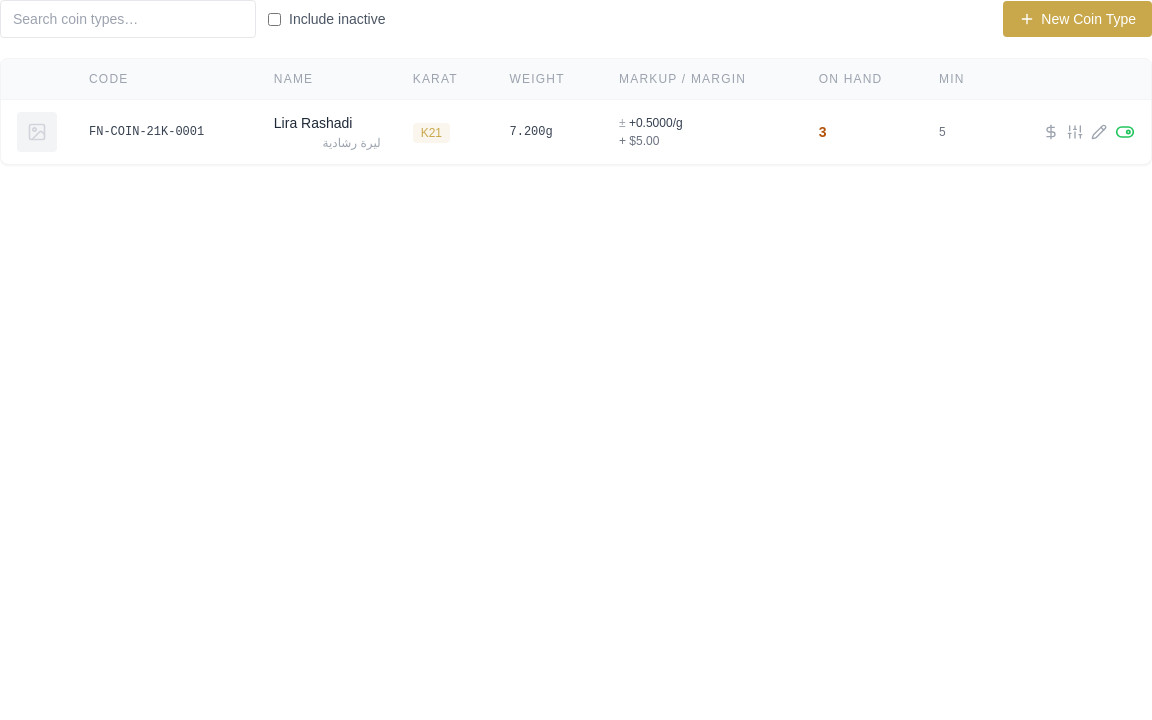
Scenario: UnitCatalog labels (NEX-64) › every field in the stock-adjust dialog is reachable by its label
Click the button named "Adjust stock: FN-COIN-21K-0001": point(1075, 132) [1067, 124, 1083, 140]
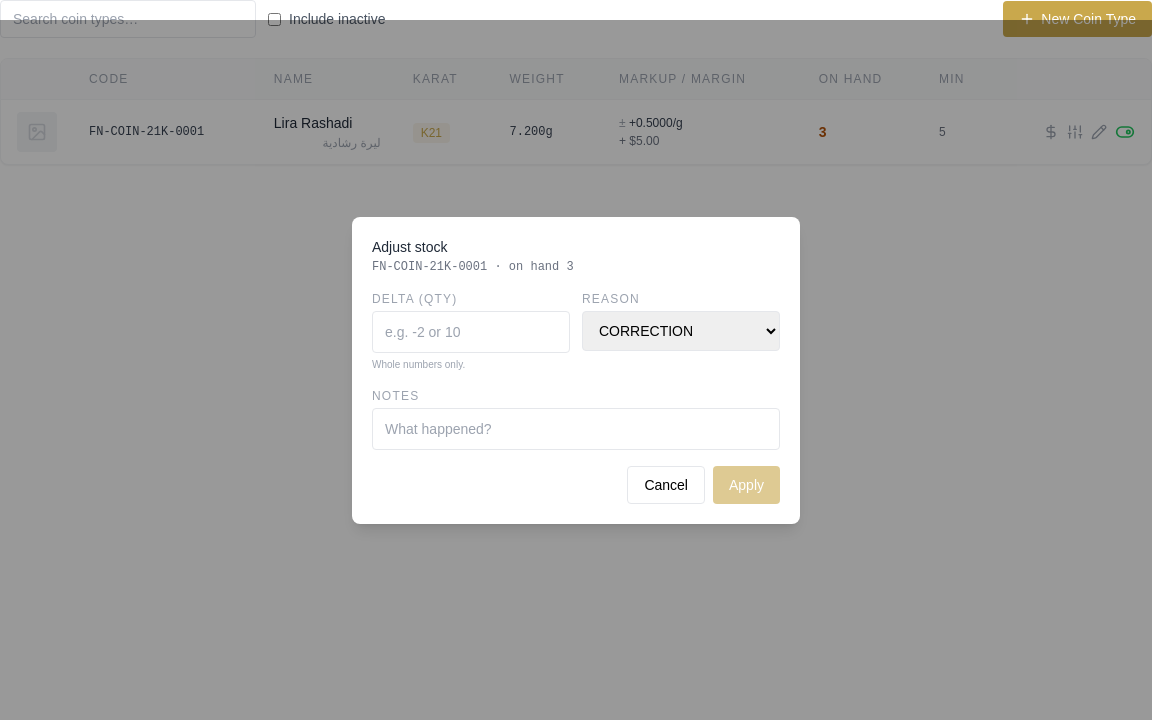
Result: the label "Delta (qty)" is shown at [372, 290, 570, 352]
Result: the label "Reason" is shown at [582, 290, 780, 372]
Result: the label "Notes" is shown at [372, 388, 780, 450]
